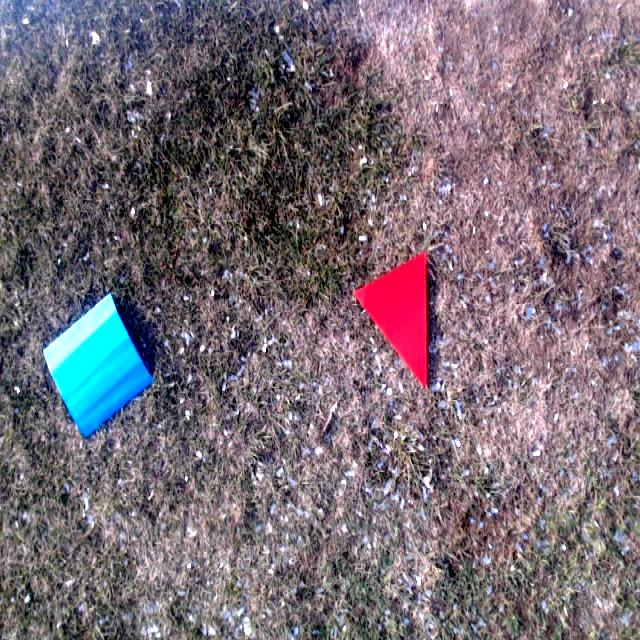blue_square: (43, 294, 153, 436)
red_triangle: (352, 248, 428, 388)
